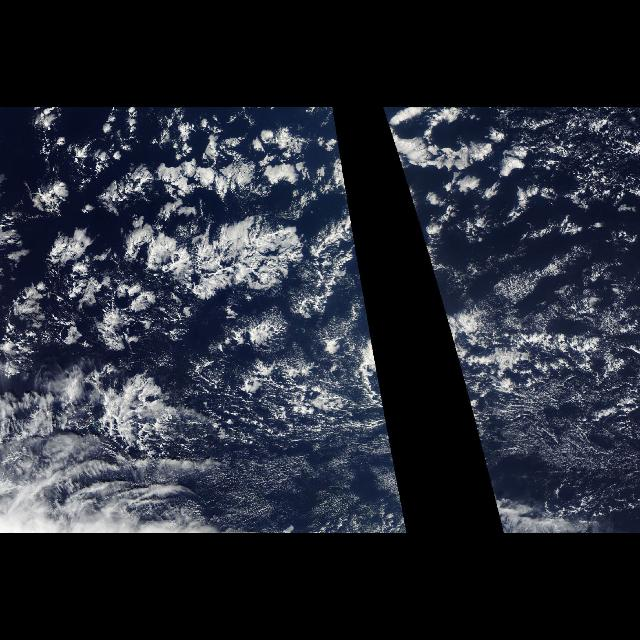Flower: (32, 107, 376, 350), (384, 107, 451, 333)
Sugar: (194, 355, 410, 533), (468, 396, 604, 530)
